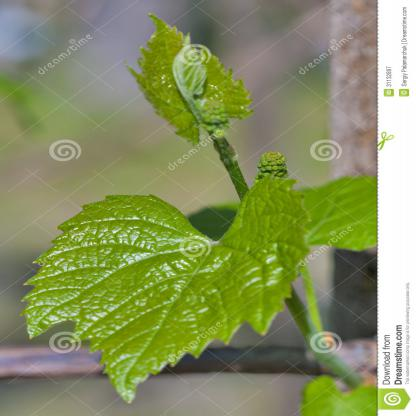grape leaf: (6, 177, 306, 404)
